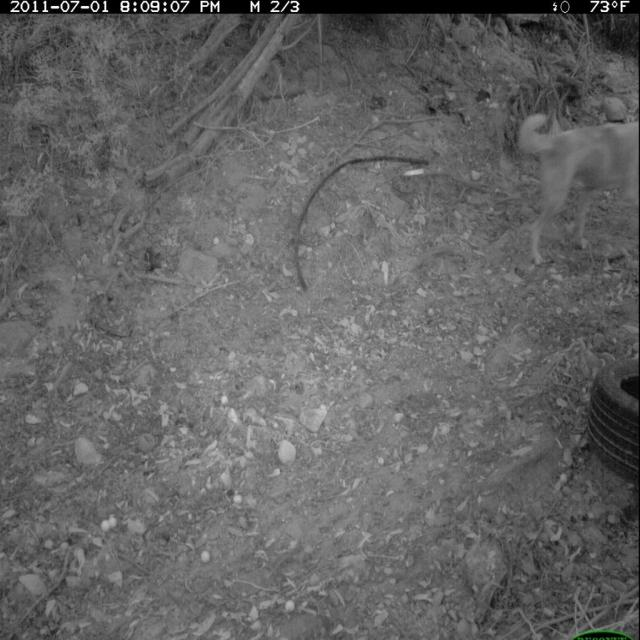dog: (512, 83, 639, 267)
